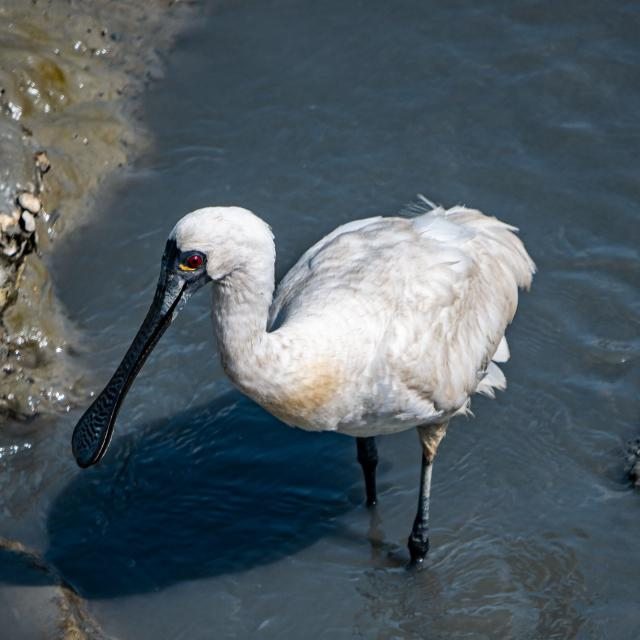Black-faced spoonbill: (73, 202, 534, 562)
